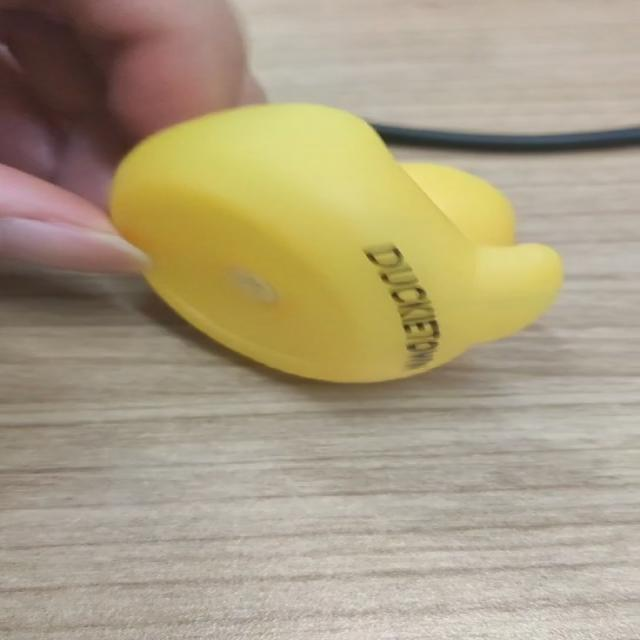rubber-duck: (109, 103, 561, 380)
